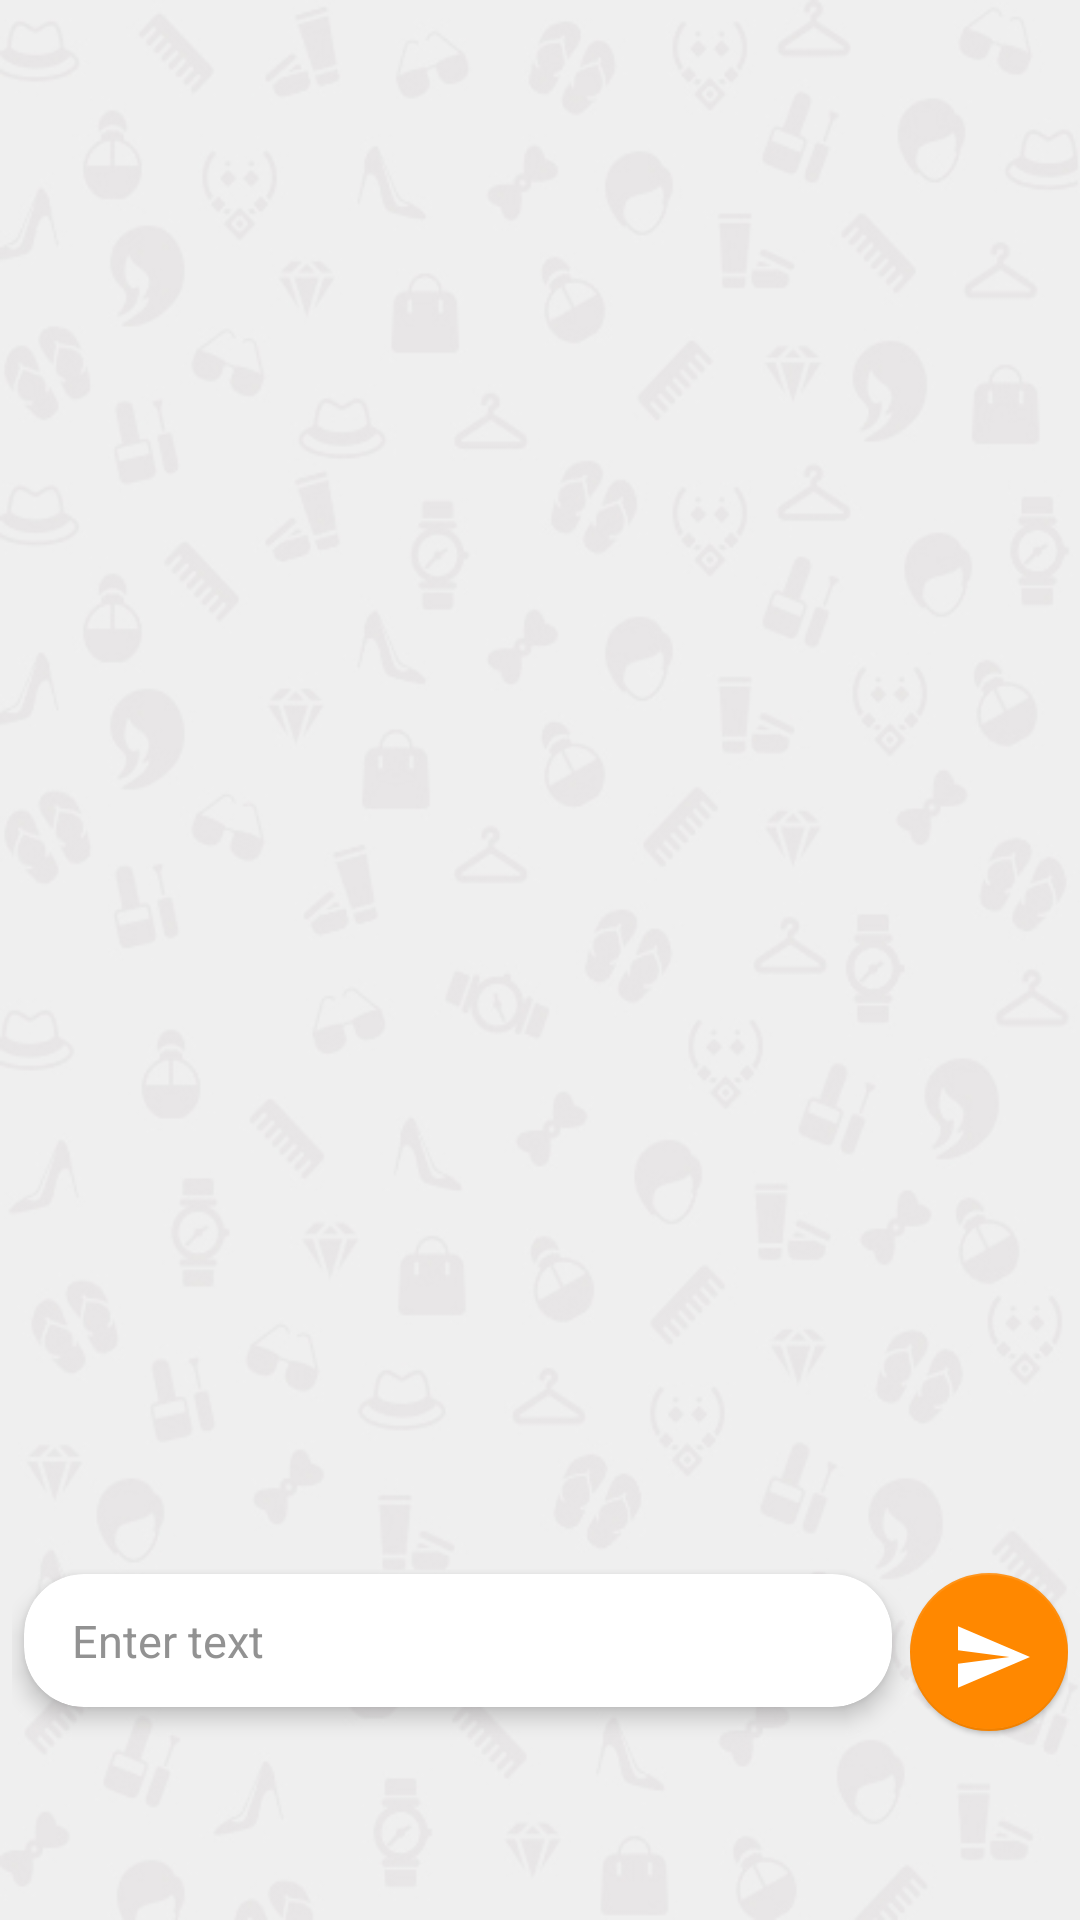

Icon bounding boxes for this 1080px x 1920px phone screenshot, format bbox=[x1, y1, x2, y2]:
send: bbox=[910, 1573, 1068, 1731]
